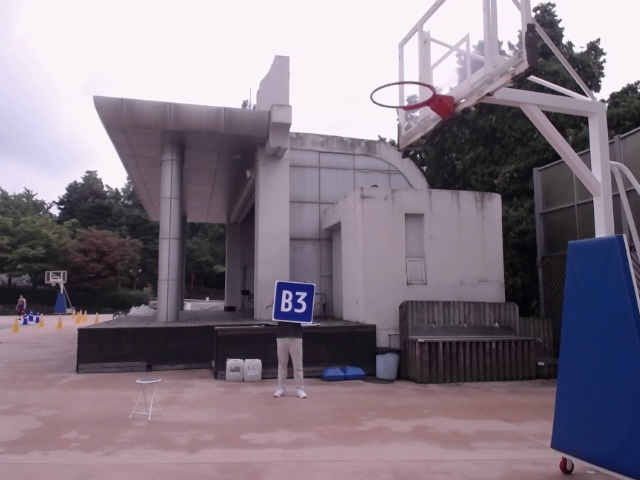delivery_b3: (274, 282, 315, 323)
